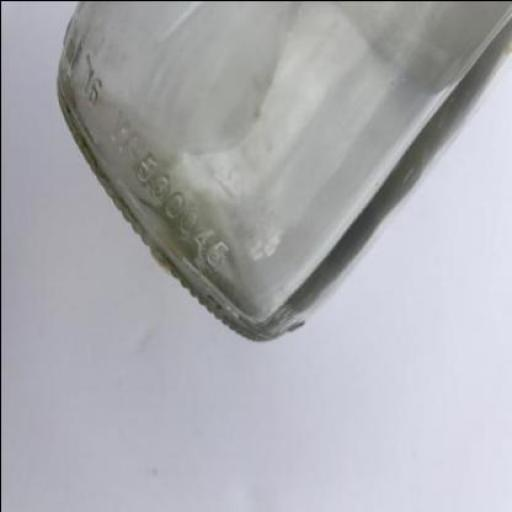glass: (56, 1, 510, 342)
